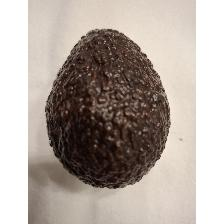Avocado: (42, 25, 174, 193)
